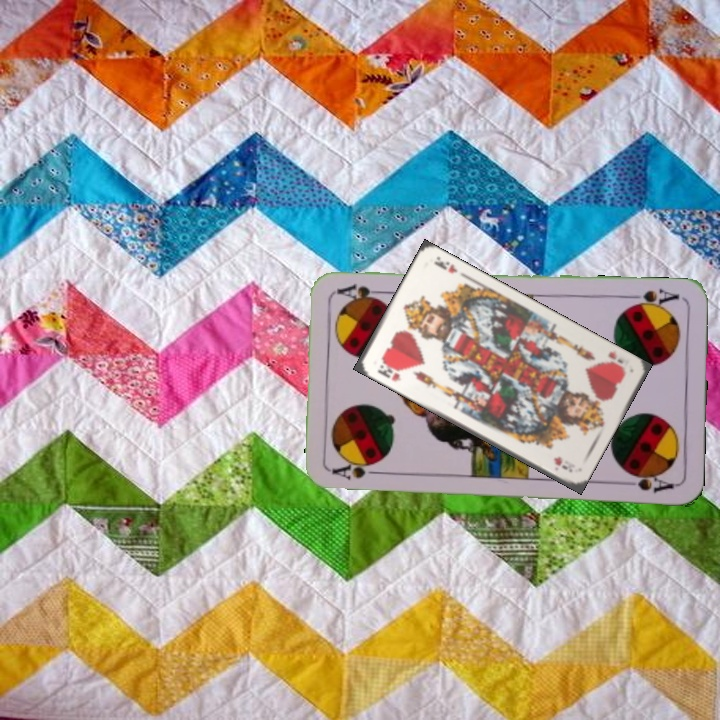HK: (373, 358, 404, 384), (602, 347, 629, 375)
SA: (624, 284, 681, 311), (329, 461, 388, 483)
